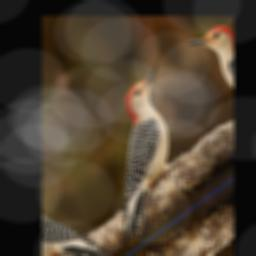Woodpecker: (63, 66, 215, 253)
